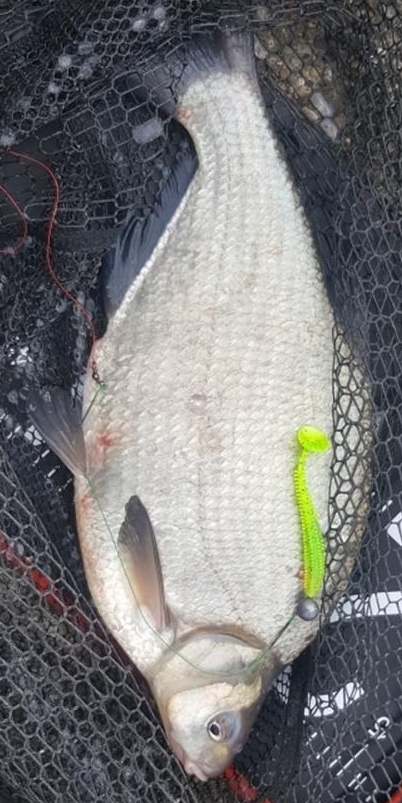Abramis brama: (20, 20, 382, 783)
